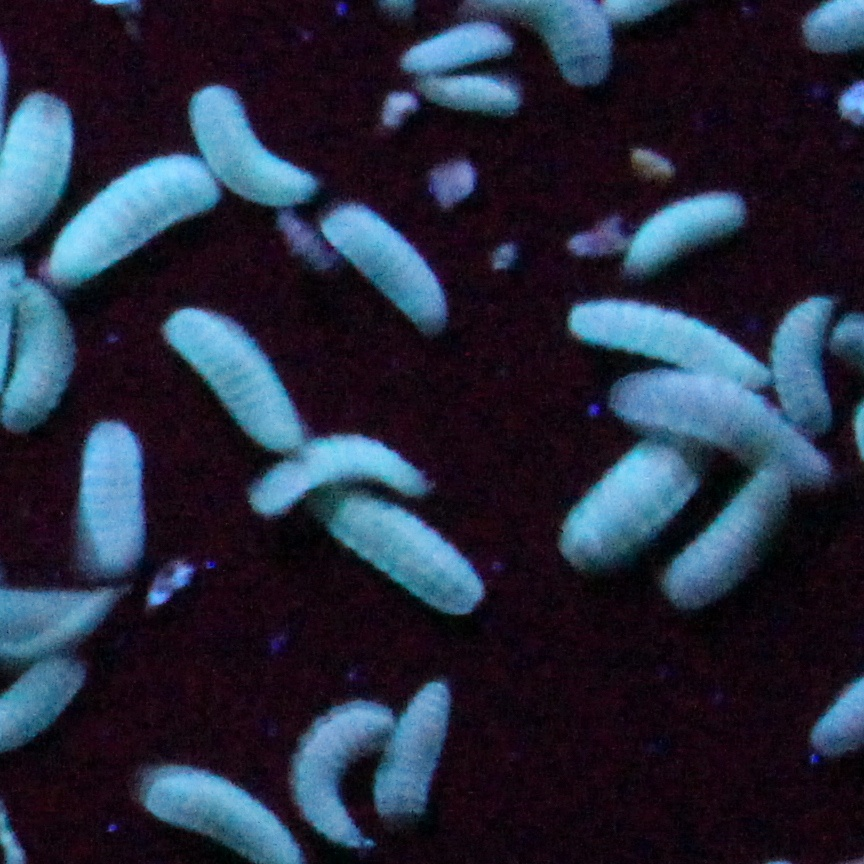larve: (605, 367, 830, 480), (559, 432, 718, 568), (164, 304, 298, 454), (321, 498, 490, 616), (49, 162, 210, 281), (662, 462, 793, 606), (562, 303, 769, 393), (289, 701, 397, 847), (323, 203, 439, 334), (189, 78, 310, 196), (249, 436, 439, 503), (377, 678, 456, 814), (623, 181, 741, 272), (80, 419, 143, 578), (0, 276, 57, 436), (771, 288, 830, 436), (393, 19, 508, 68), (412, 76, 521, 117)
